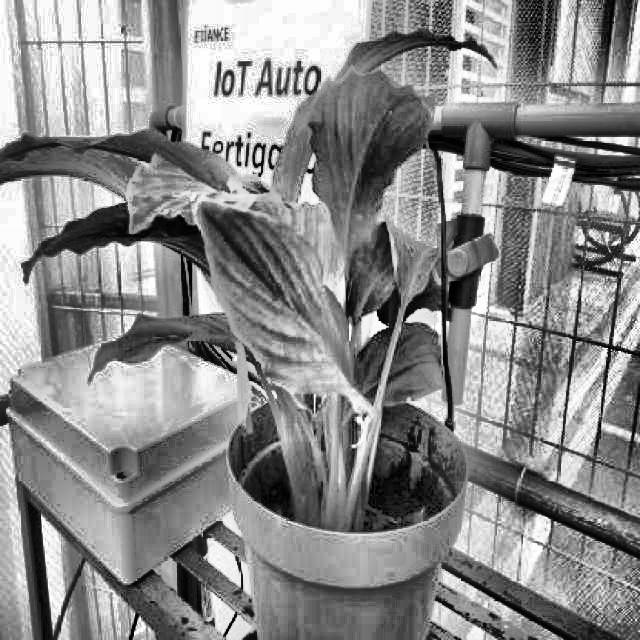plants: (0, 24, 498, 530)
